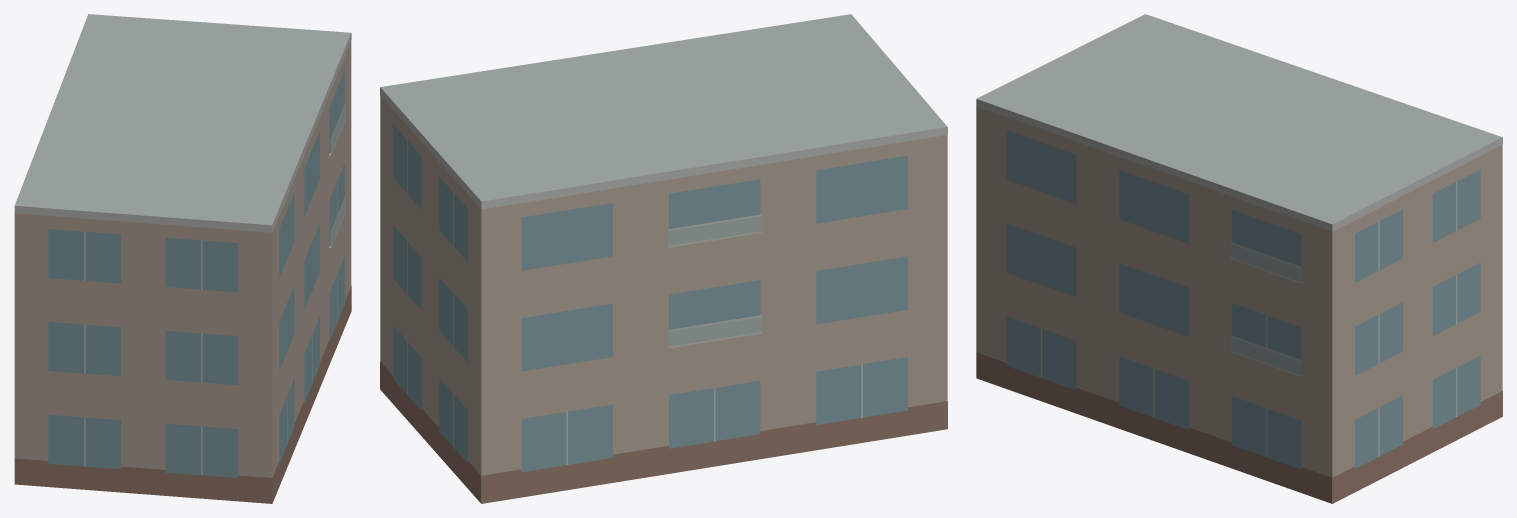
The model's file is survey-upis-32887753.glb.
3 views of the same model, side by side, from view 1: azimuth 30°, elevation 25°; view 2: azimuth 150°, elevation 25°; view 3: azimuth 270°, elevation 25° (orthographic). The views are drawn at different scales.
Visible parts, largest first — view 1: survey-upis-32887753.tmp; view 2: survey-upis-32887753.tmp; view 3: survey-upis-32887753.tmp.
Part boxes in pixels (box(x1,y1,x2,y2)): survey-upis-32887753.tmp: box(14, 14, 351, 503); survey-upis-32887753.tmp: box(380, 14, 947, 503); survey-upis-32887753.tmp: box(976, 14, 1502, 503).
Bounding box in the file's own units: 14.79 × 9.15 × 15.63.
